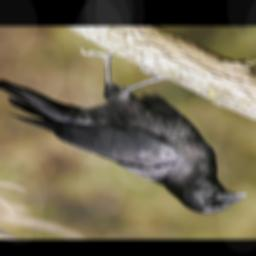Crow: (0, 45, 254, 216)
